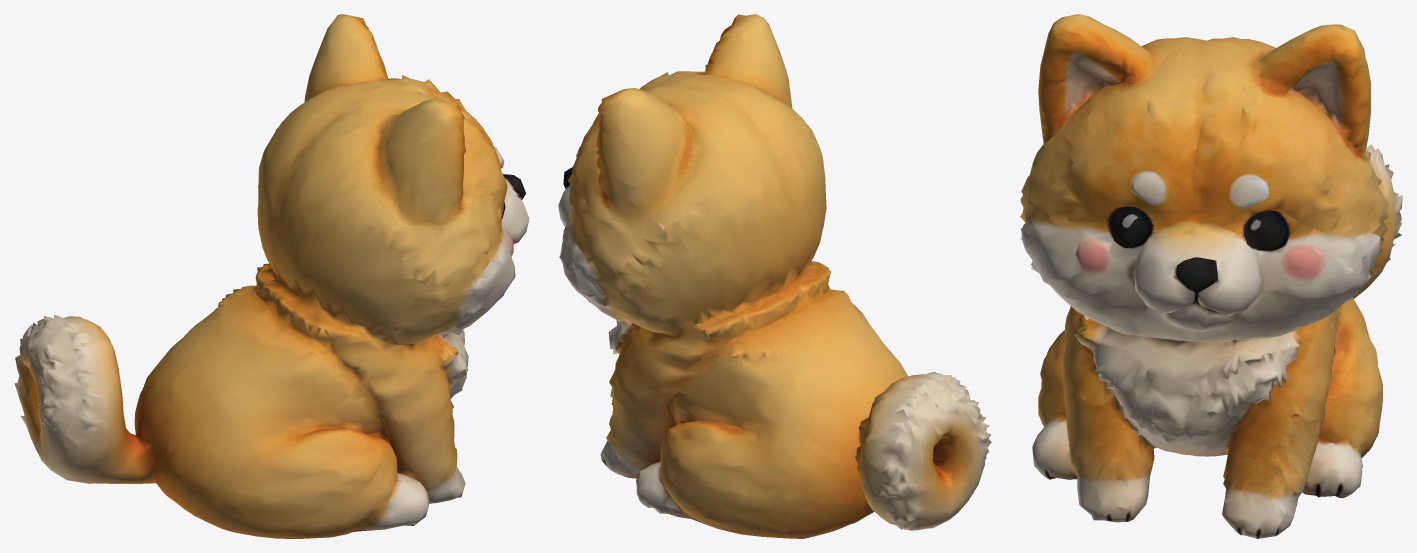
File: shiba.glb
The picture shows the model from 3 angles, left to right: view 1: azimuth 30°, elevation 25°; view 2: azimuth 150°, elevation 25°; view 3: azimuth 270°, elevation 25°; orthographic projection. The views are drawn at different scales.
Visible parts, largest first — view 1: tripo_node_2eba0ba1-04c1-45b4-9368-dd816f9386b4; view 2: tripo_node_2eba0ba1-04c1-45b4-9368-dd816f9386b4; view 3: tripo_node_2eba0ba1-04c1-45b4-9368-dd816f9386b4.
Boxes of the visible parts, x1,y1,x2,y2 form: tripo_node_2eba0ba1-04c1-45b4-9368-dd816f9386b4: [14, 14, 529, 538]; tripo_node_2eba0ba1-04c1-45b4-9368-dd816f9386b4: [558, 14, 991, 538]; tripo_node_2eba0ba1-04c1-45b4-9368-dd816f9386b4: [1020, 14, 1402, 538].
Size of the model in its own units: 1 by 0.8631 by 0.6124.
Materials: 1 (1 with a texture image).
